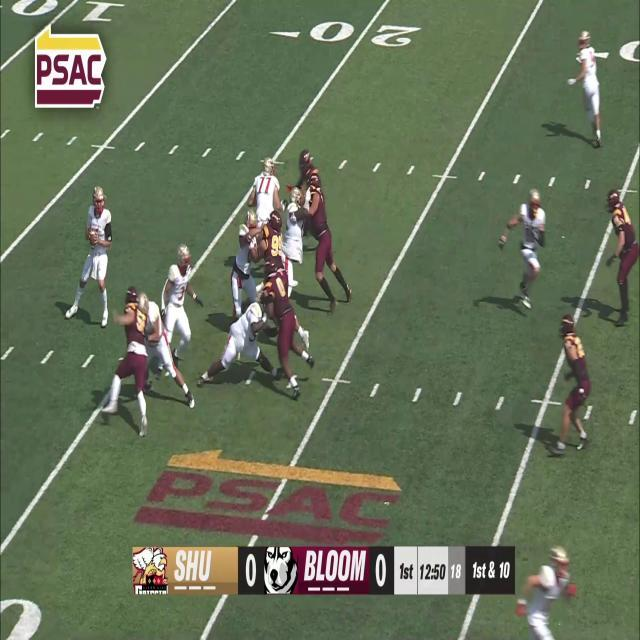football: (86, 226, 98, 251)
